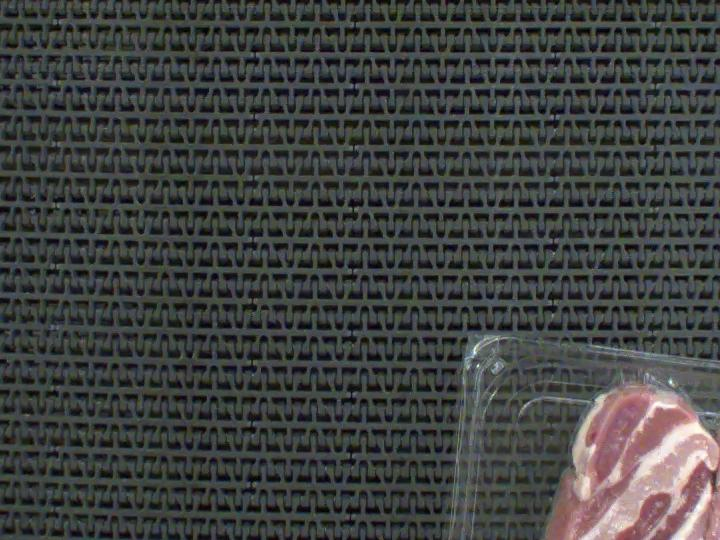unsealed: (611, 333, 720, 435)
